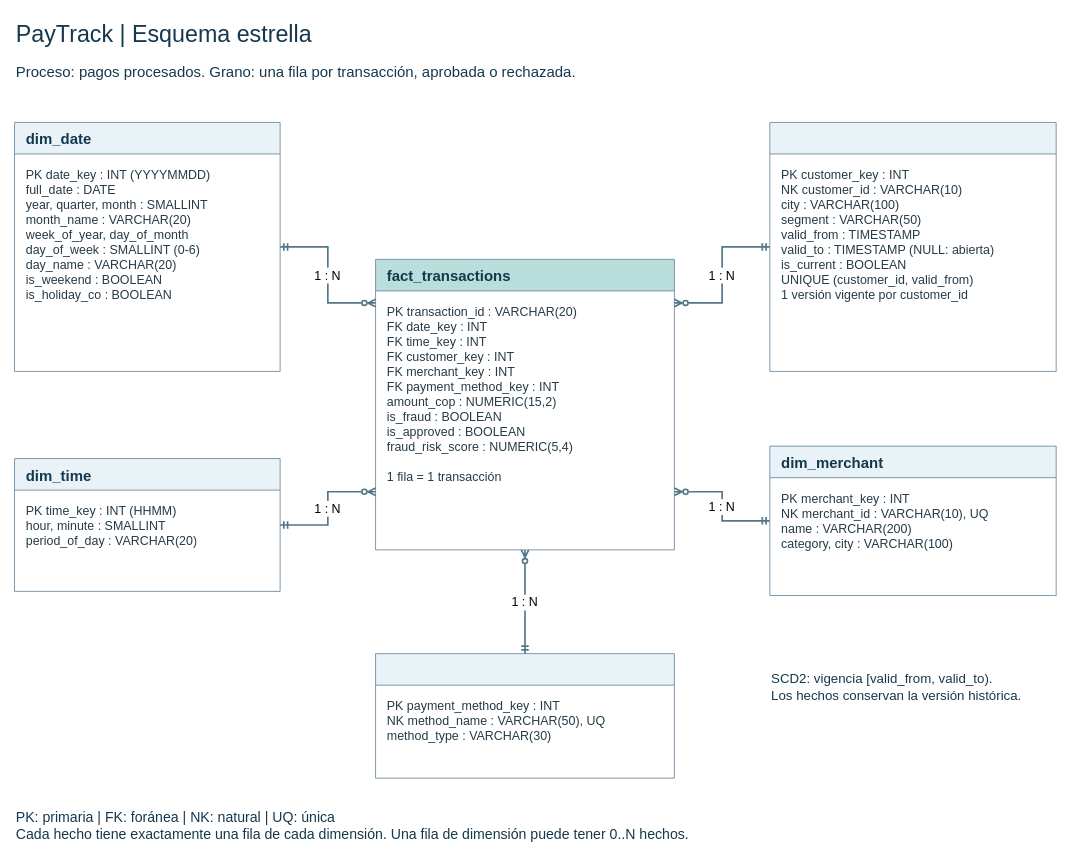
This 1071x867 diagram has some shape labels left out. Here are the shapes that lost their labels. From the top down, the box of each, then its label:
(769, 122, 1056, 371): dim_customer | SCD2
(375, 653, 674, 778): dim_payment_method
